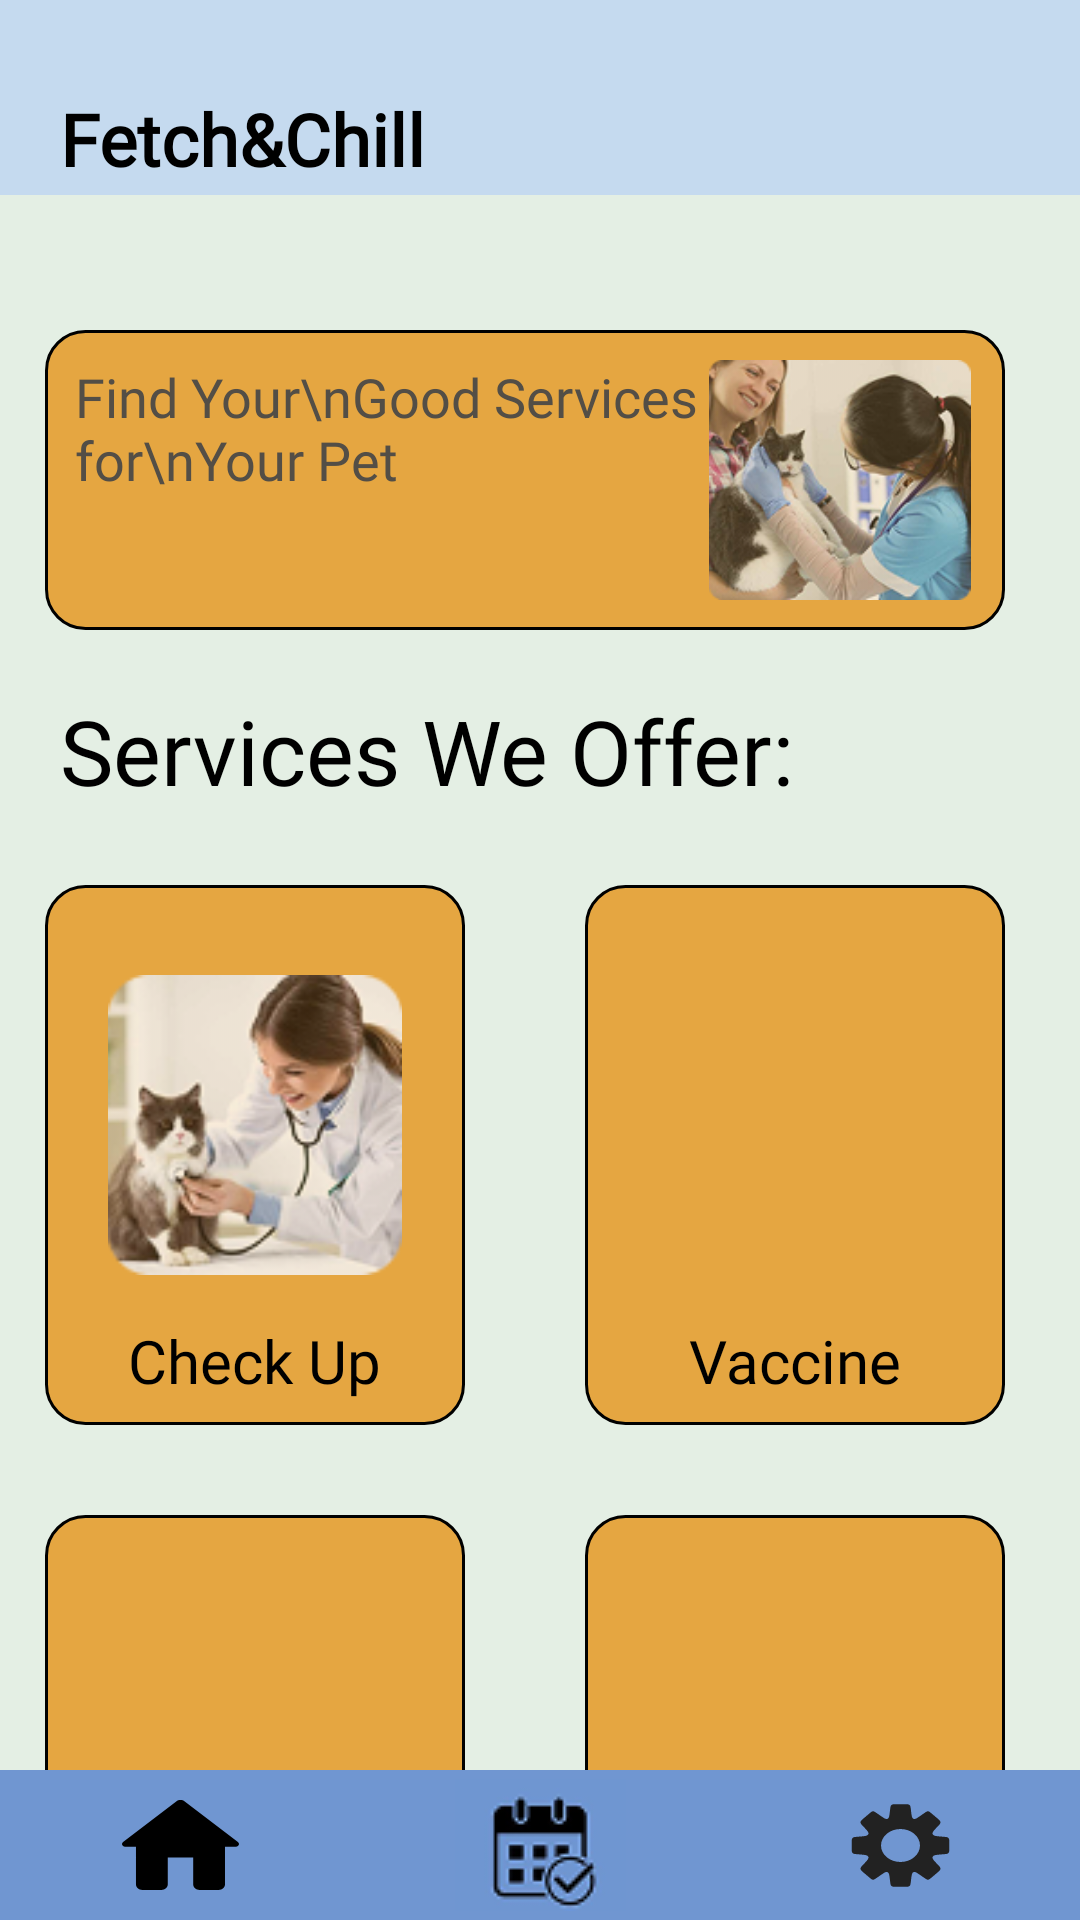

Icons on this 1080×1920 Android screen, each with the point to tap as (x=x, y=y):
home: (x=180, y=1845)
schedule: (x=544, y=1851)
setting: (x=900, y=1845)
